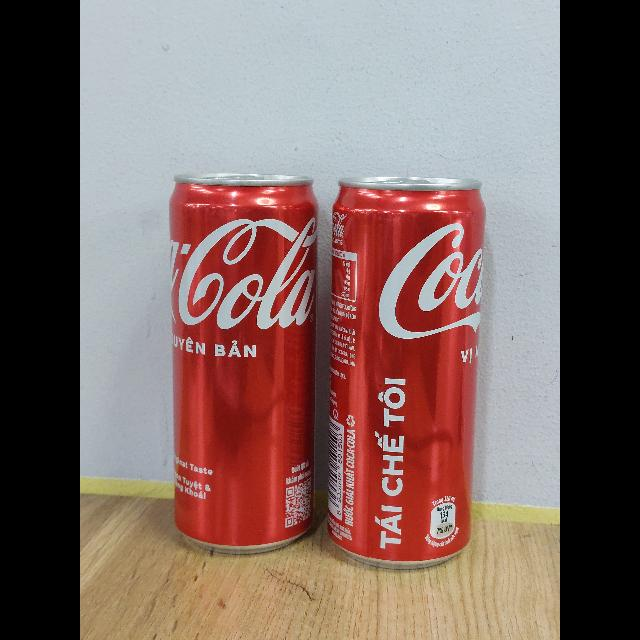coca_cola: (324, 180, 486, 571), (168, 174, 320, 558)
